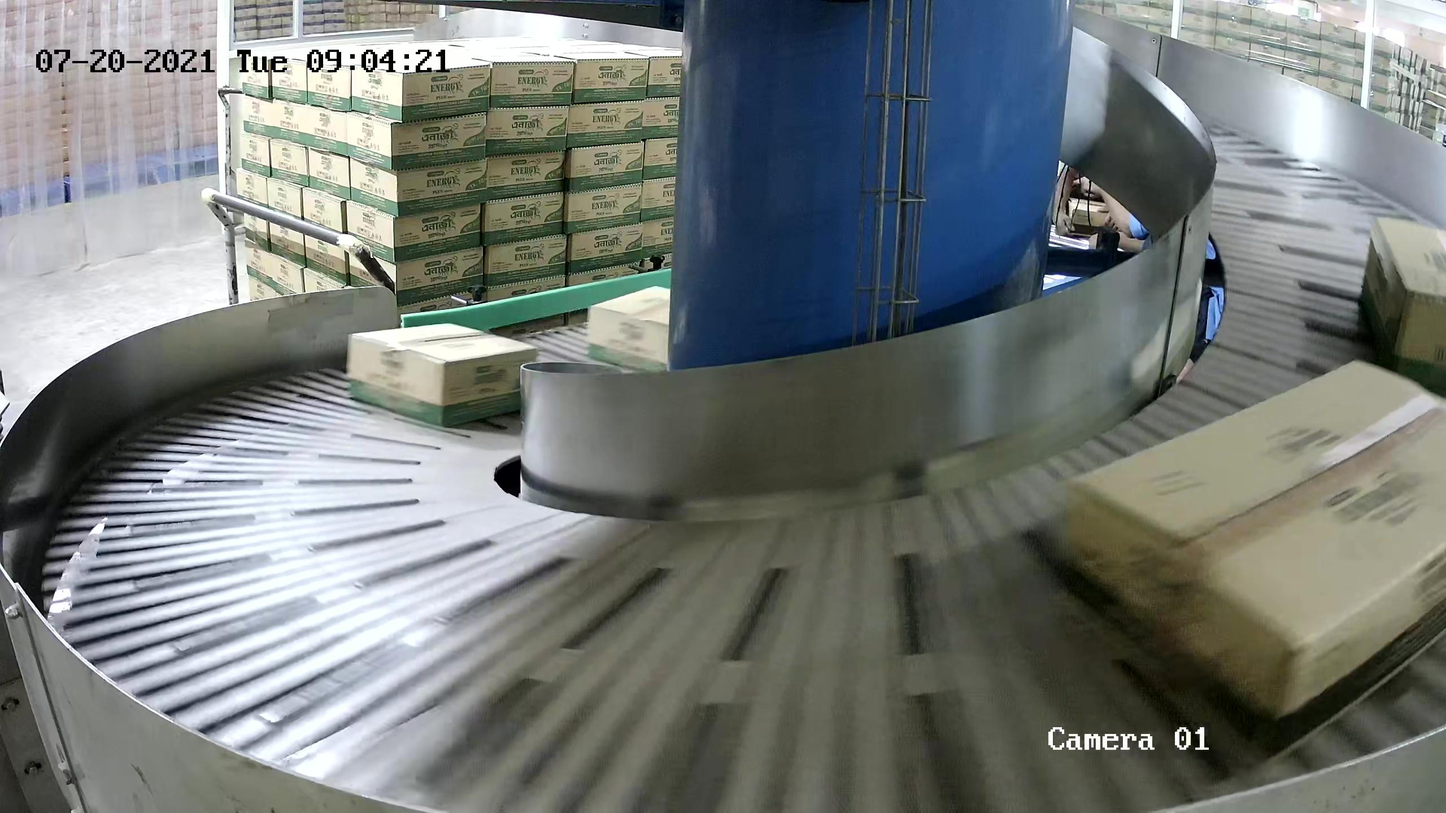Box: (1037, 351, 1446, 765), (345, 320, 537, 430), (1353, 212, 1446, 407), (586, 284, 730, 381)
